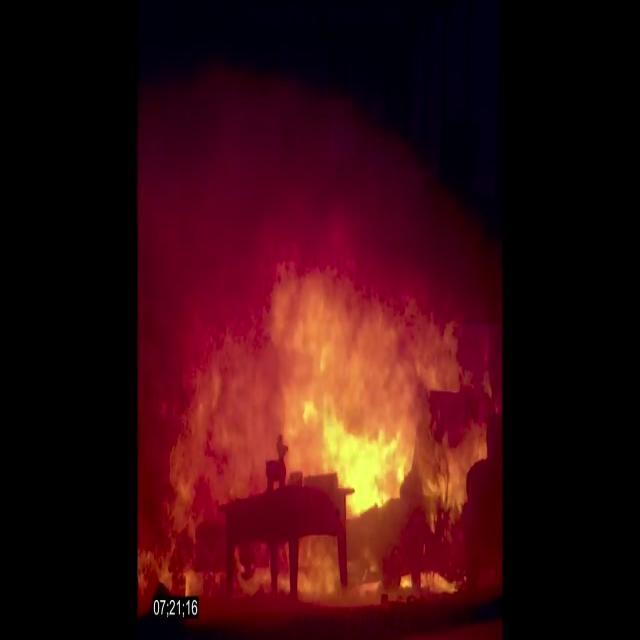Fire: (296, 277, 472, 473)
